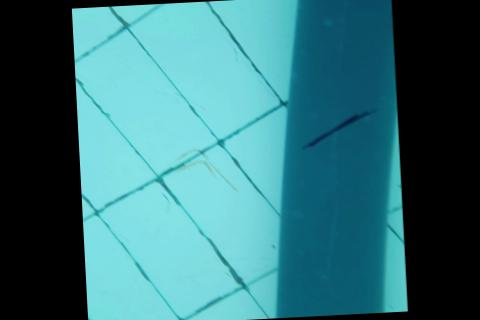keretakan: (299, 107, 379, 149)
